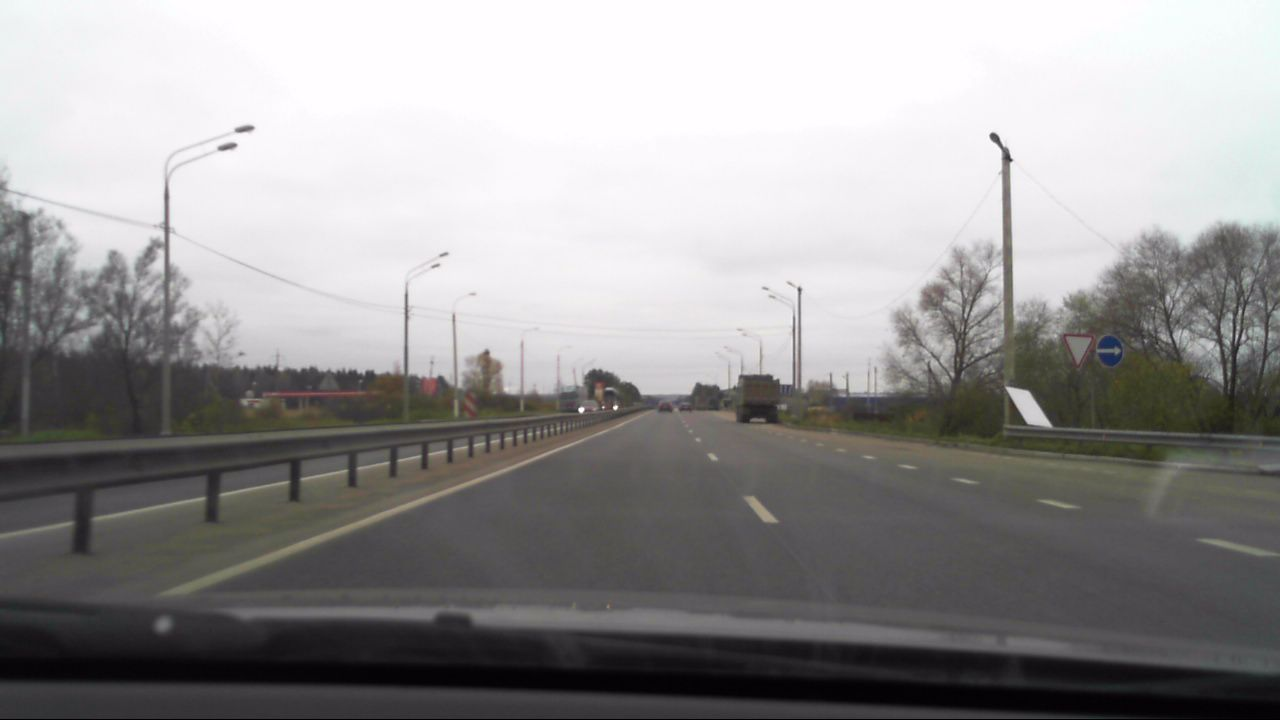Turn Right: (1097, 335, 1124, 368)
